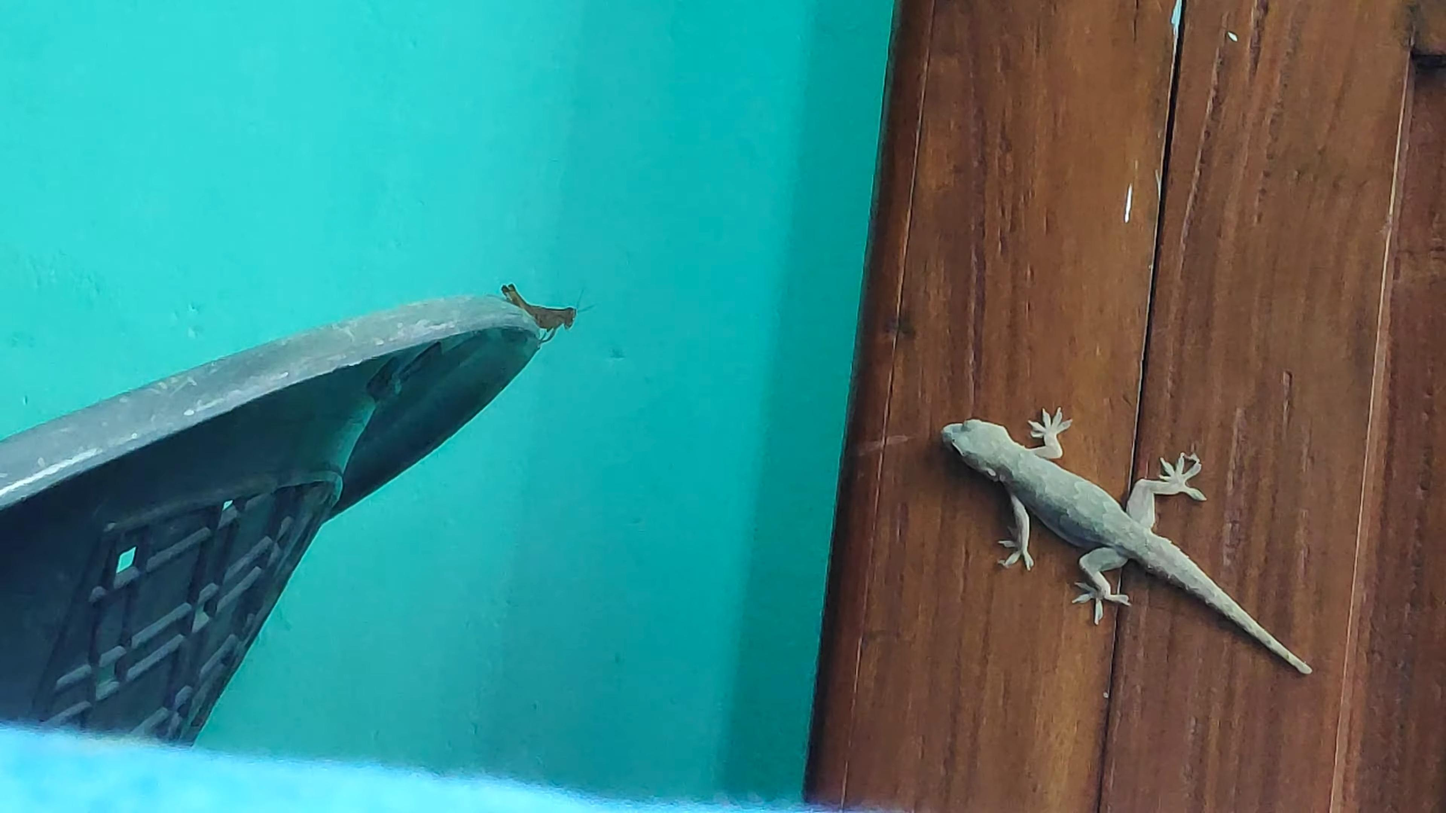lizard: (942, 407, 1311, 676)
